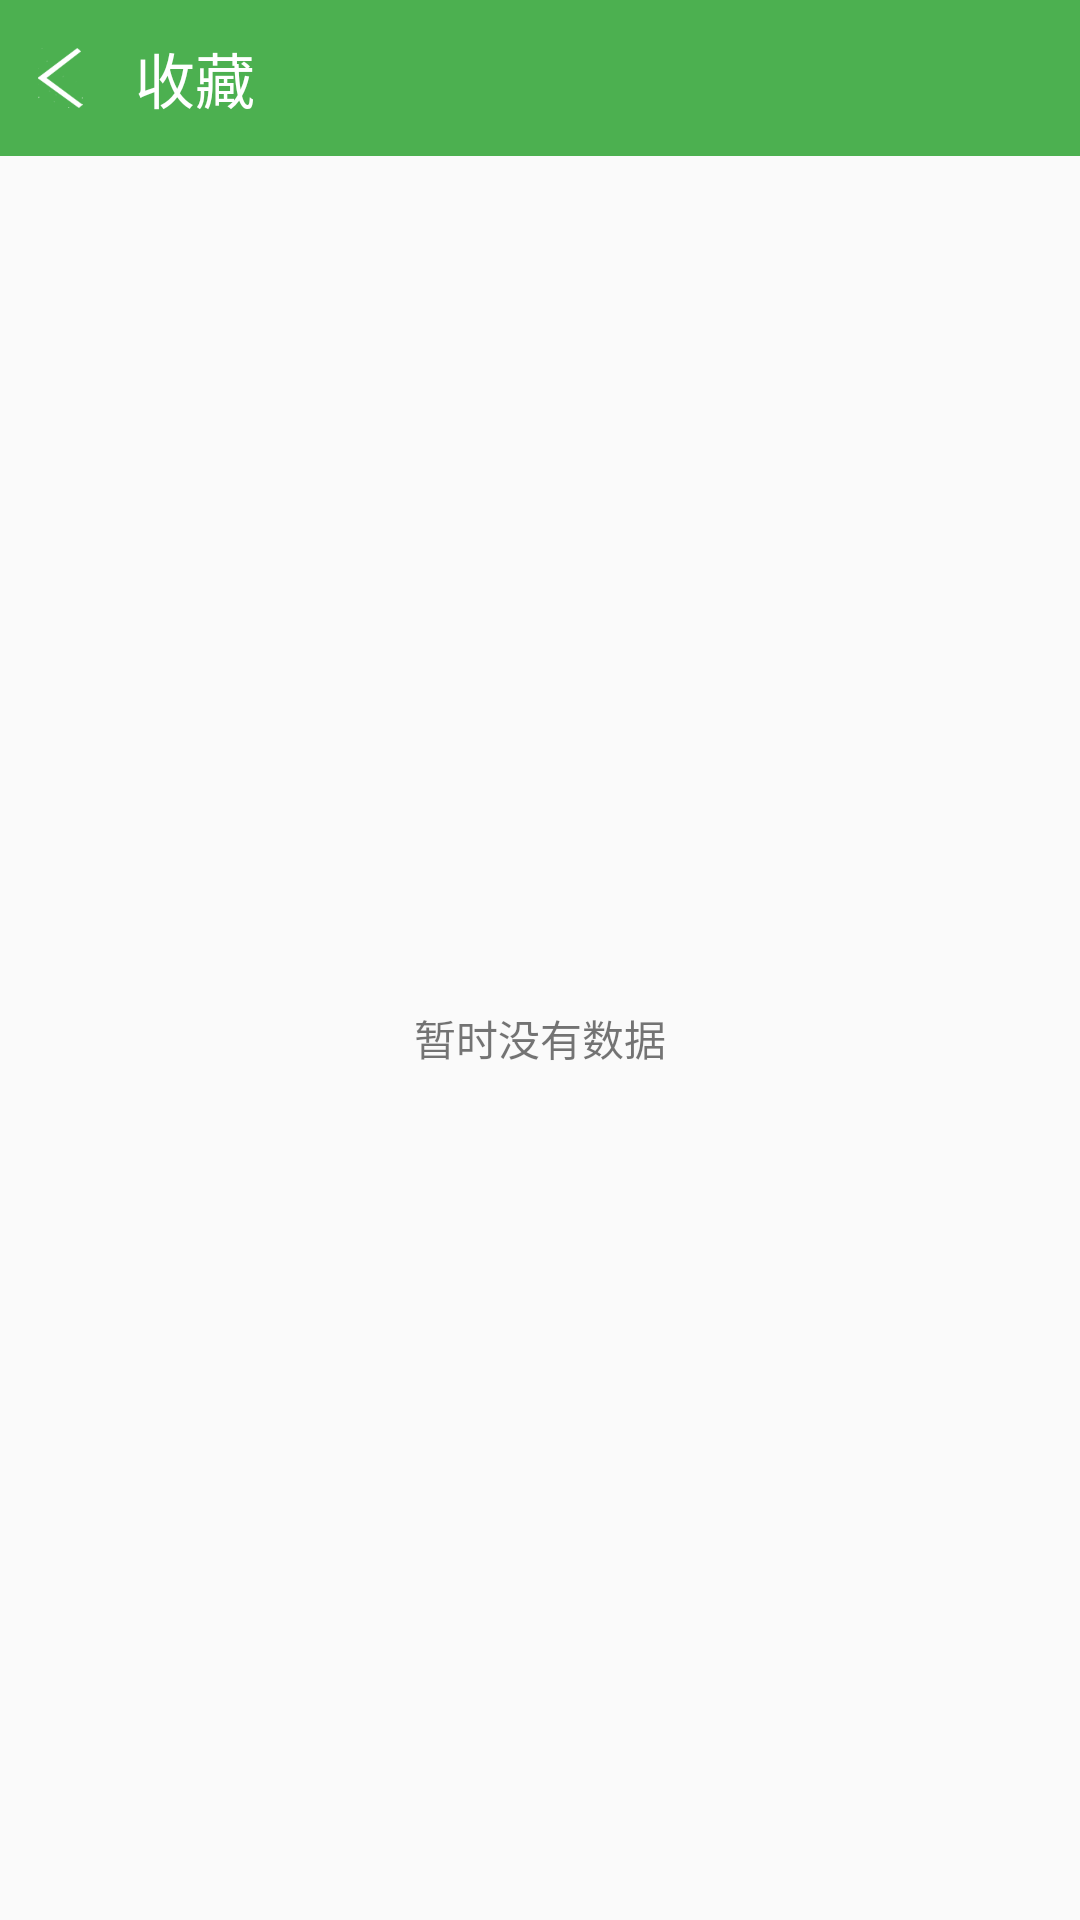

Icon bounding boxes for this 1080x1920 phone screenshot, format (x1, y1, x2, y2):
serach back: (38, 48, 83, 108)
